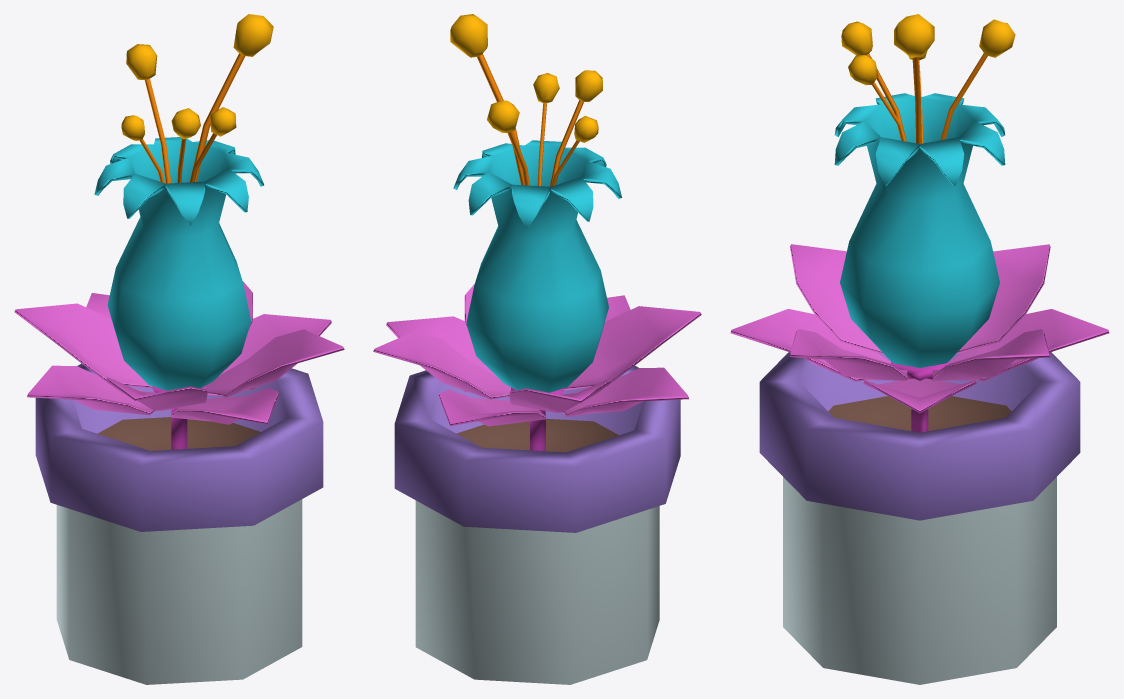
File: Plant4 lv3.fbx
3 views of the same model, side by side, from view 1: azimuth 30°, elevation 25°; view 2: azimuth 150°, elevation 25°; view 3: azimuth 270°, elevation 25° (orthographic). The views are drawn at different scales.
Parts seen in each view (by area): view 1: Plant4_lv3; view 2: Plant4_lv3; view 3: Plant4_lv3.
Part boxes in pixels (box(x1,y1,x2,y2)): Plant4_lv3: box(14, 14, 344, 684); Plant4_lv3: box(373, 14, 701, 684); Plant4_lv3: box(730, 14, 1109, 684).
Bounding box in the file's own units: 68.69 × 130 × 68.69.
